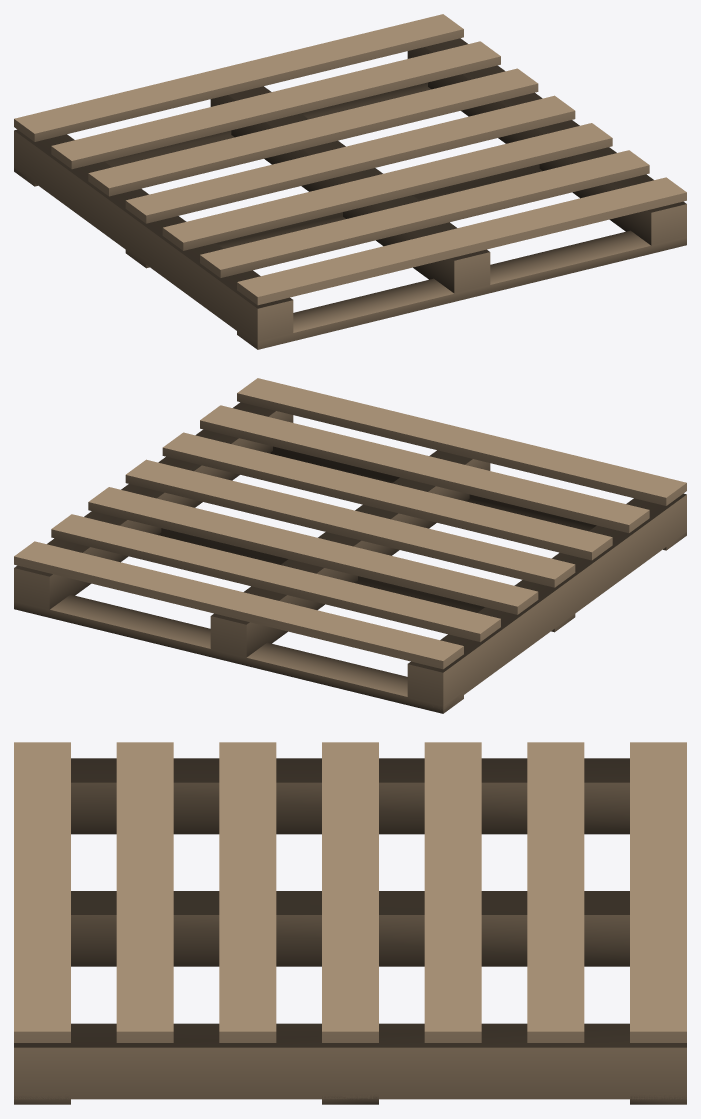
The model's file is pallet.glb.
3 renders of one model, top to bottom at view 1: azimuth 30°, elevation 25°; view 2: azimuth 150°, elevation 25°; view 3: azimuth 270°, elevation 25°, orthographic. The views are drawn at different scales.
Parts seen in each view (by area): view 1: pallet; view 2: pallet; view 3: pallet.
Boxes of the visible parts, x1,y1,x2,y2 form: pallet: (14,14,686,349); pallet: (14,378,686,713); pallet: (14,742,686,1104).
Bounding box in the file's own units: 1.2 × 0.141 × 1.18.
